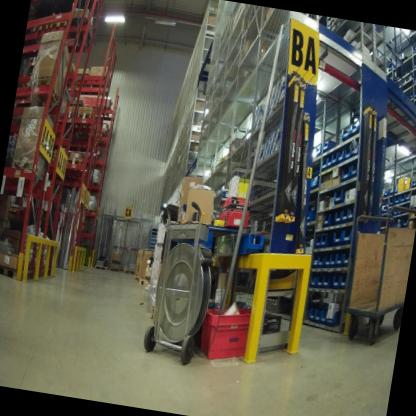pallet: (25, 71, 60, 108), (8, 156, 48, 183), (0, 261, 33, 283), (48, 15, 73, 37), (74, 109, 97, 132), (61, 154, 87, 173), (60, 107, 77, 133), (30, 16, 49, 37), (93, 262, 110, 273), (141, 278, 151, 293), (121, 267, 136, 277), (89, 178, 101, 188), (85, 207, 97, 216), (138, 276, 145, 288), (134, 271, 140, 283)
small_load_carrier: (197, 289, 268, 367)
